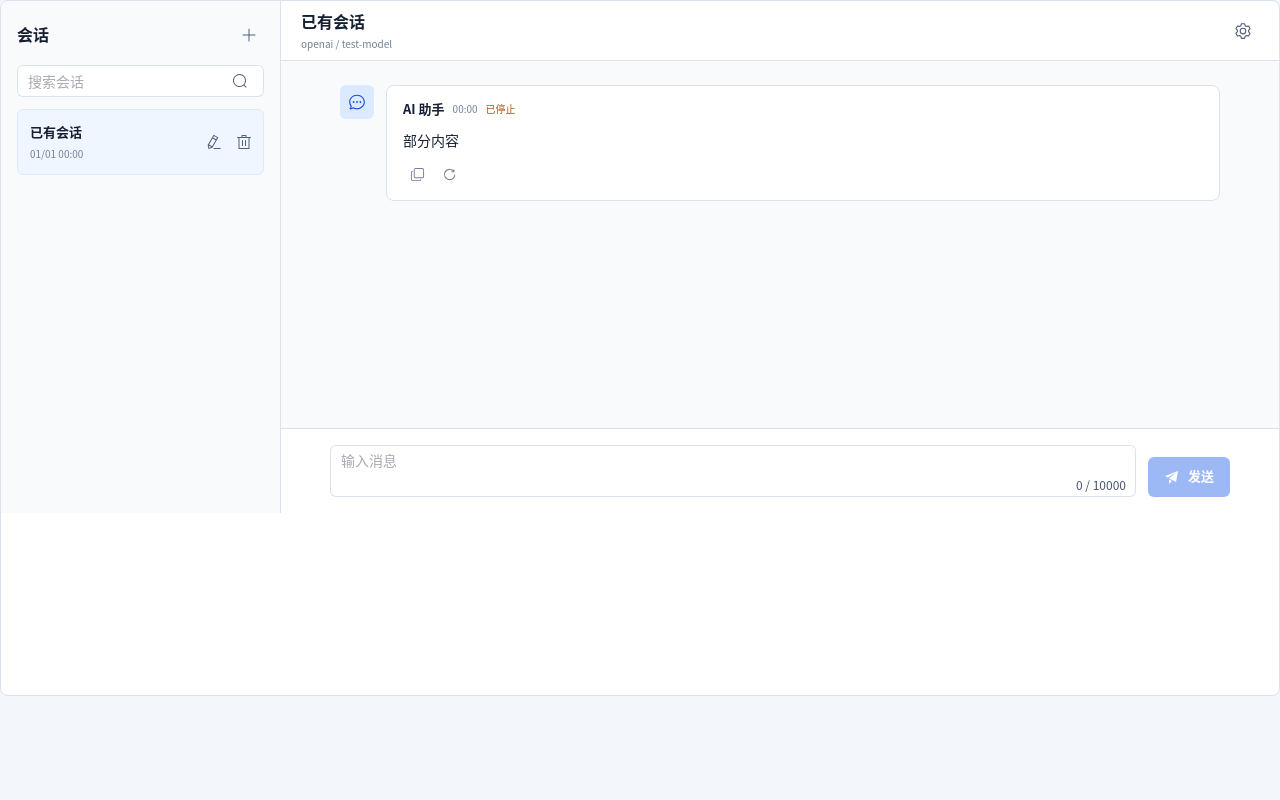
Test case: AiChatPage › retries the last cancelled assistant message
This screenshot has width=1280, height=800.
Click the button named "重试回复" at (449, 174), box [435,160,463,188]
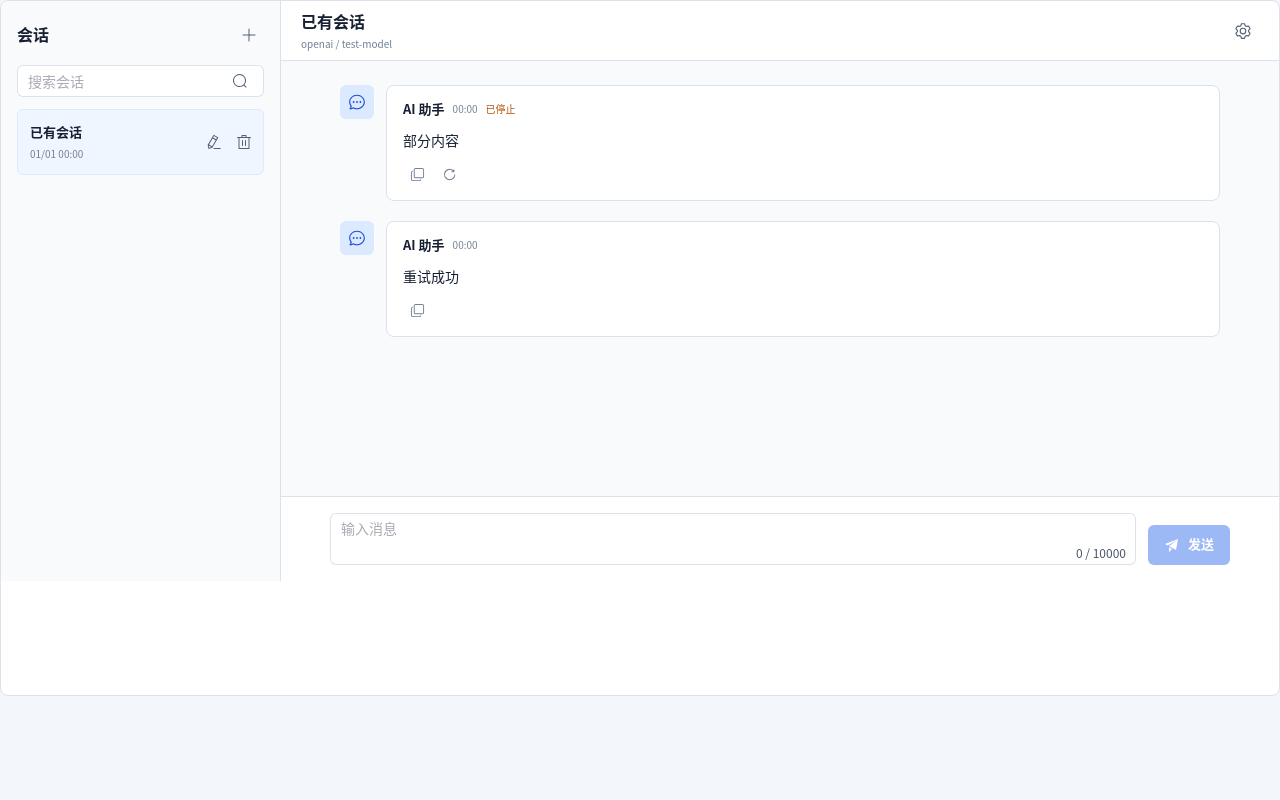
Result: the text "重试成功" is shown at [403,266,459,286]
